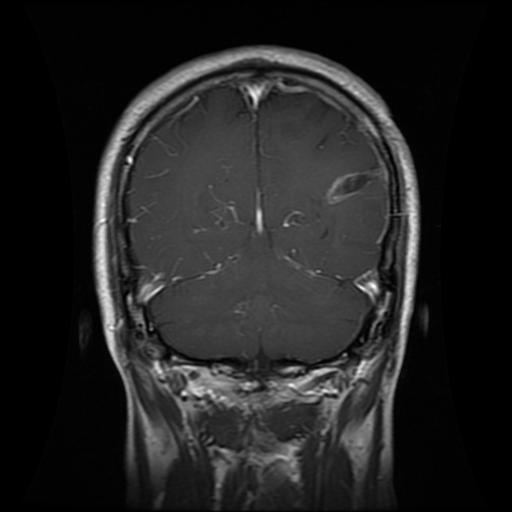Gliomia_tumour: (323, 164, 384, 206)
